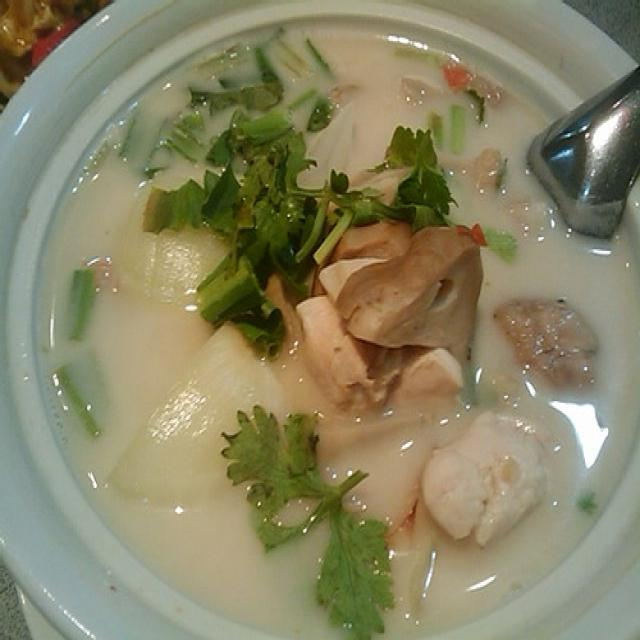汤锅炖物: (22, 17, 631, 626)
